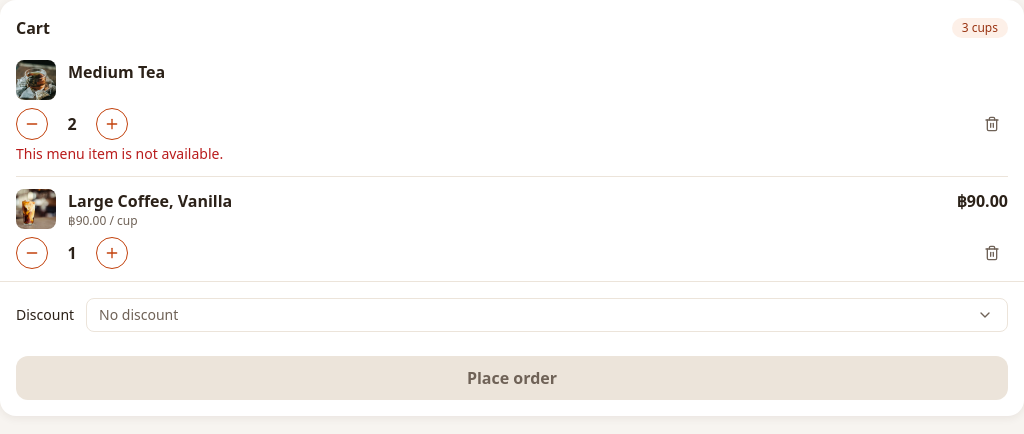
Test: CartPanel › flags a stale line, blocks ordering, and re-enables after removal
Expected: the text "This menu item is not available." is shown, [16,144,223,163]
Expected: the button "Place order" is disabled, [16,356,1008,400]
Click the button named "Remove Medium Tea" at (992, 124), box [976,108,1008,140]
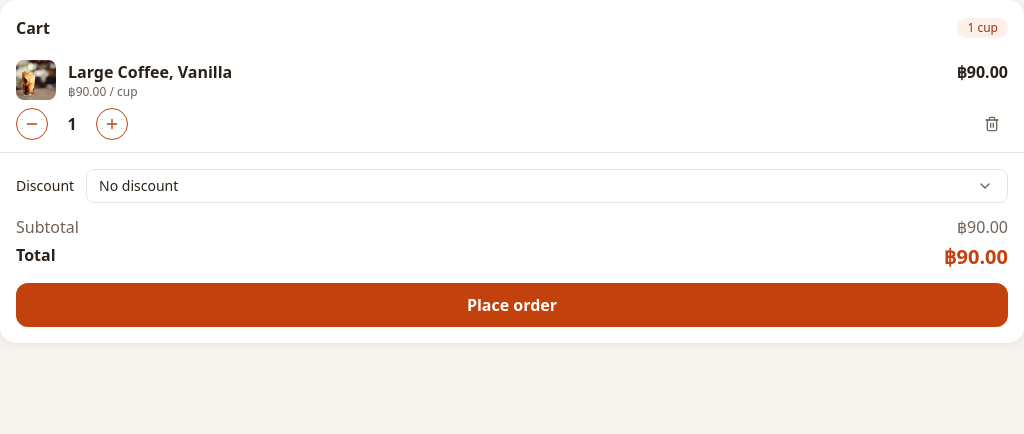
Expected: the text "This menu item is not available." is gone
Expected: the button "Place order" is enabled, [16,283,1008,327]
